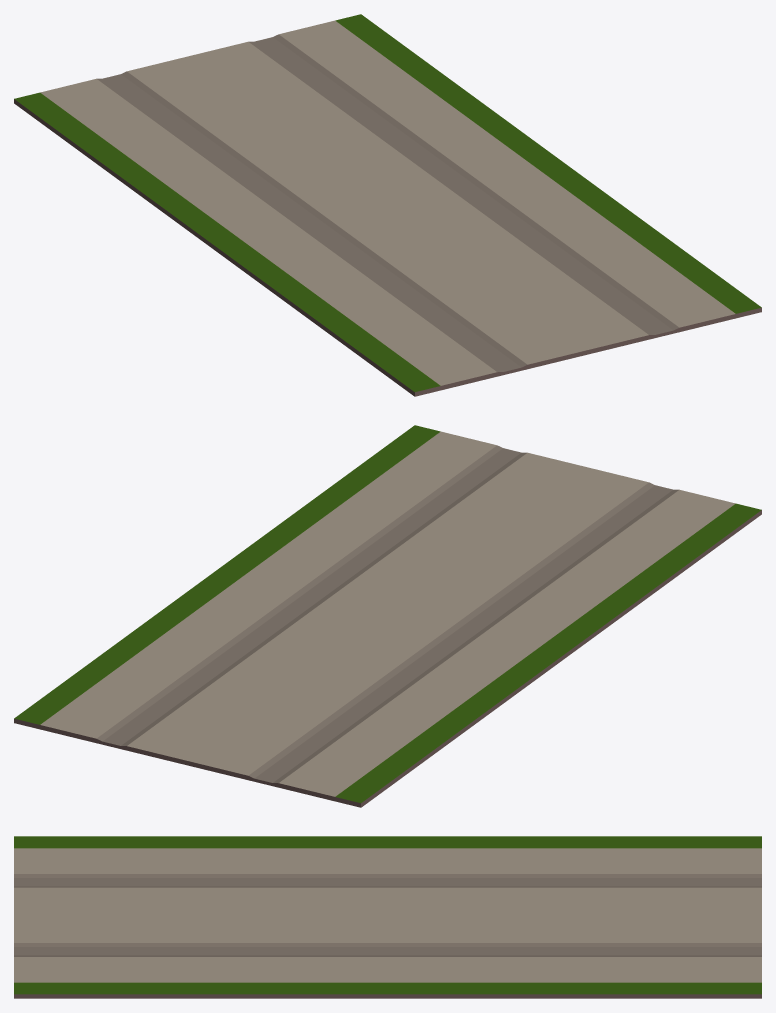
File: FMS_Mach_Demo_Road_Straight.fbx
The picture shows the model from 3 angles, top to bottom: view 1: azimuth 30°, elevation 25°; view 2: azimuth 150°, elevation 25°; view 3: azimuth 270°, elevation 25°; orthographic projection. The views are drawn at different scales.
Visible parts, largest first — view 1: Road_Straight; view 2: Road_Straight; view 3: Road_Straight.
Boxes of the visible parts, <box> form: Road_Straight: <box>14,14,761,396</box>; Road_Straight: <box>14,425,761,807</box>; Road_Straight: <box>14,836,761,998</box>.
Size of the model in its own units: 4 by 0.05 by 8.
